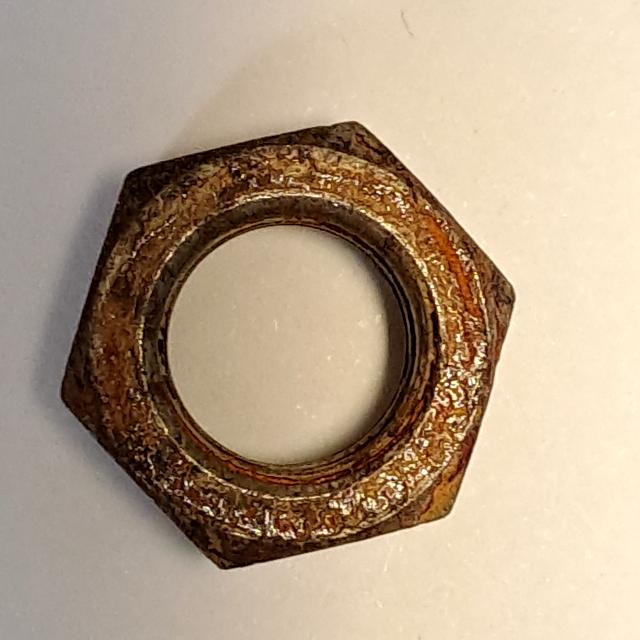Rust: (49, 102, 524, 584)
